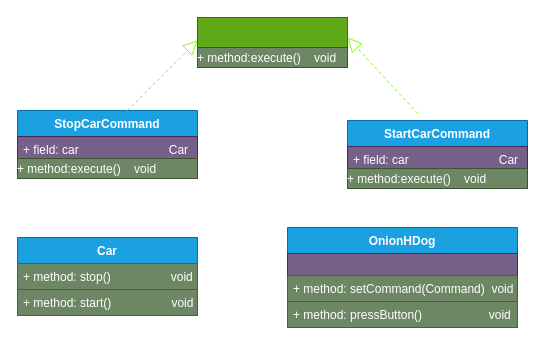
Some shapes in this 545 by 348 pixel diagram are drawn without their labels. Here are the shapes that lost their labels. From the top down, the centre of each, then its label:
At point (272, 32): "«interface» Comand".
At point (402, 264): "+ field: command Command".
